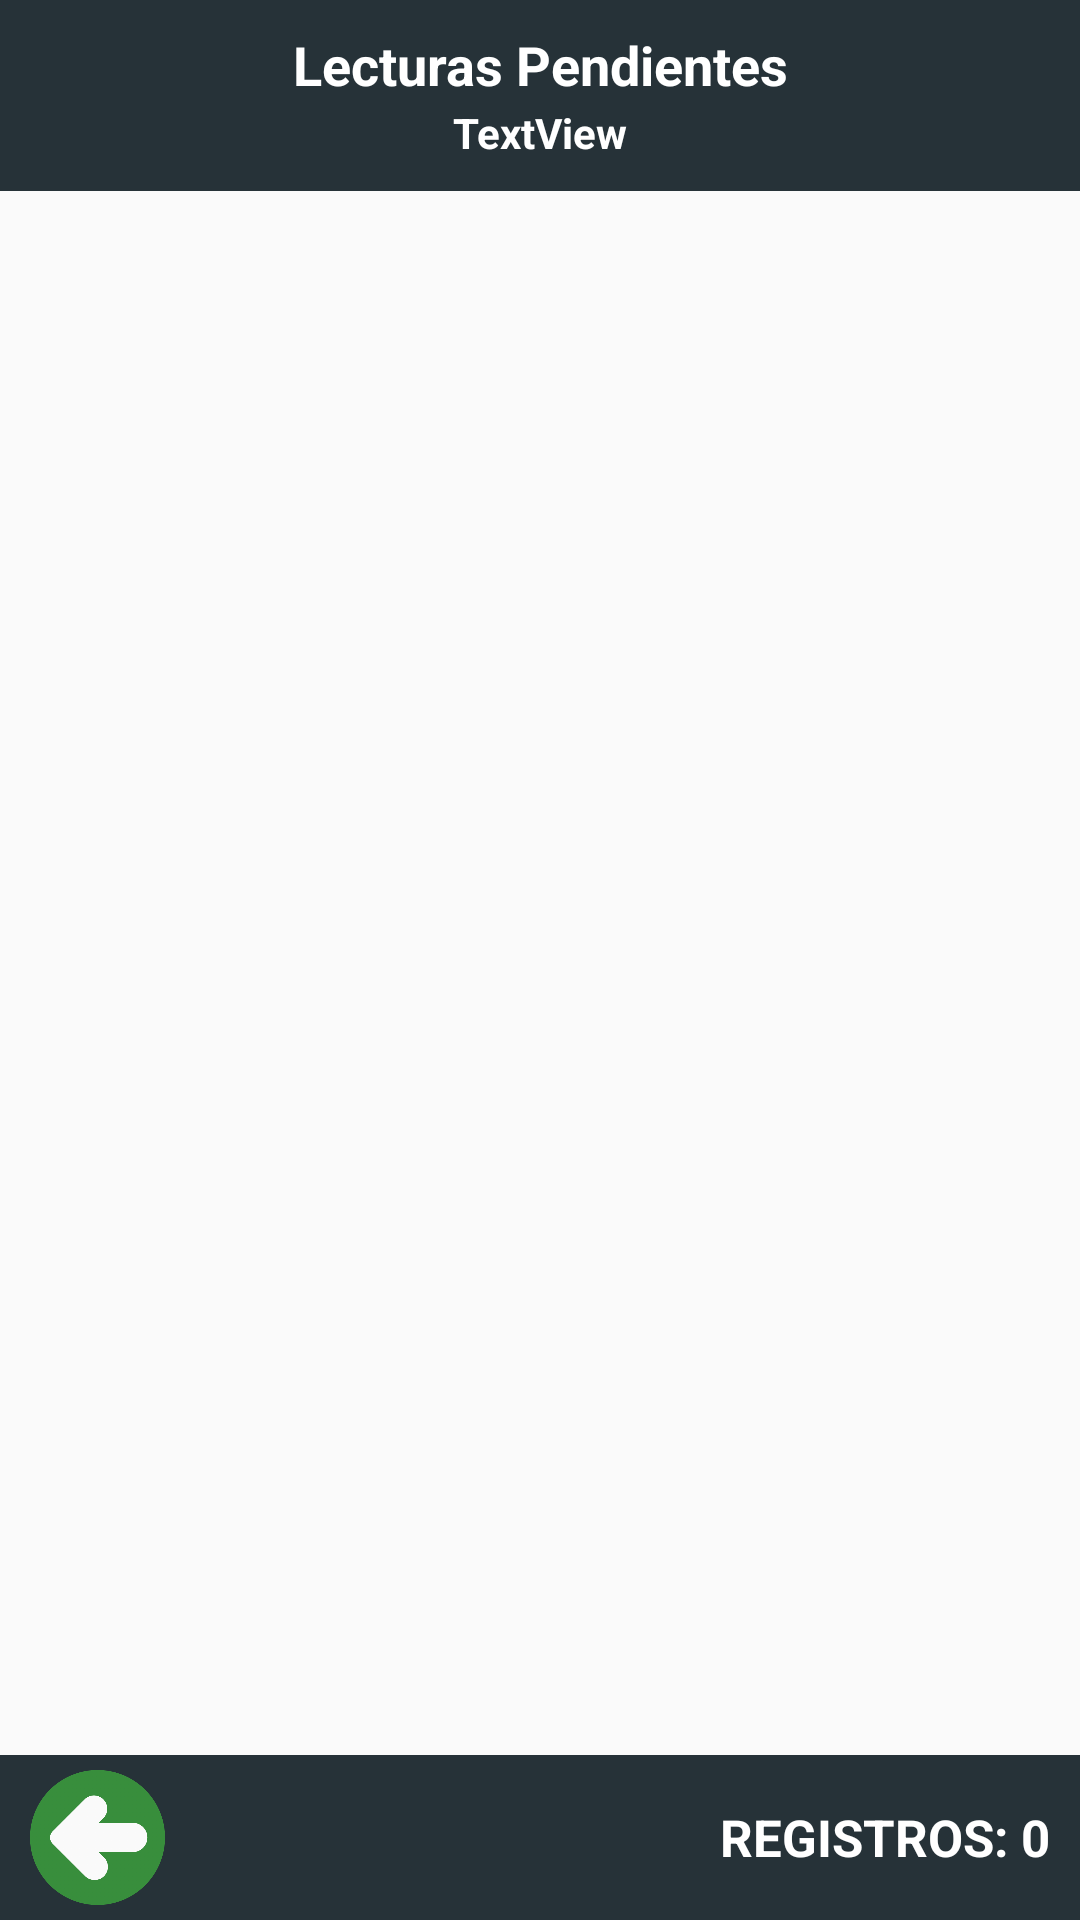

Icon click points for this 1080 × 1920 phone screenshot, format [x,y]:
regresar: [97,1837]
